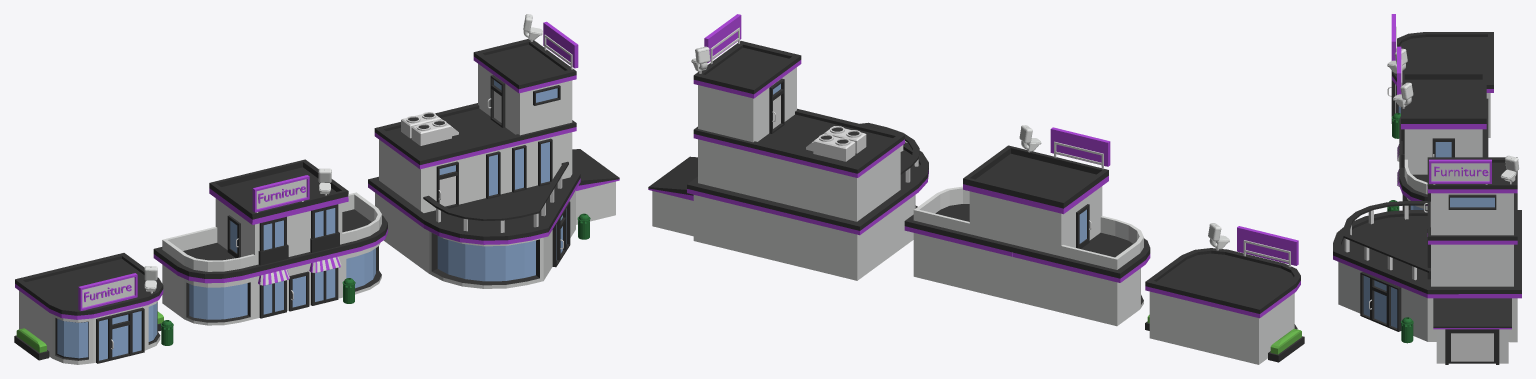
The model's file is furniture.fbx.
3 renders of one model, left to right at view 1: azimuth 30°, elevation 25°; view 2: azimuth 150°, elevation 25°; view 3: azimuth 270°, elevation 25°, orthographic. The views are drawn at different scales.
Visible parts, largest first — view 1: furniture_t3, furniture_t2, furniture_t1; view 2: furniture_t3, furniture_t2, furniture_t1; view 3: furniture_t3, furniture_t2, furniture_t1.
Boxes of the visible parts, x1,y1,x2,y2 form: furniture_t3: (368,14,619,288); furniture_t2: (153,159,387,325); furniture_t1: (14,253,173,364); furniture_t3: (648,14,928,280); furniture_t2: (904,125,1150,326); furniture_t1: (1145,223,1304,364); furniture_t3: (1333,155,1521,364); furniture_t2: (1387,46,1488,211); furniture_t1: (1387,14,1493,138).
Bounding box in the file's own units: 2246 × 674 × 633.
